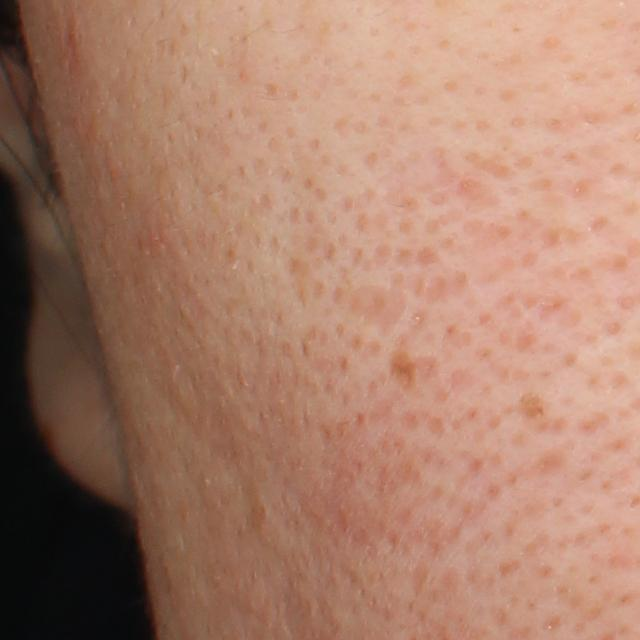atrophic_scar: (344, 280, 416, 336), (281, 253, 320, 308)
